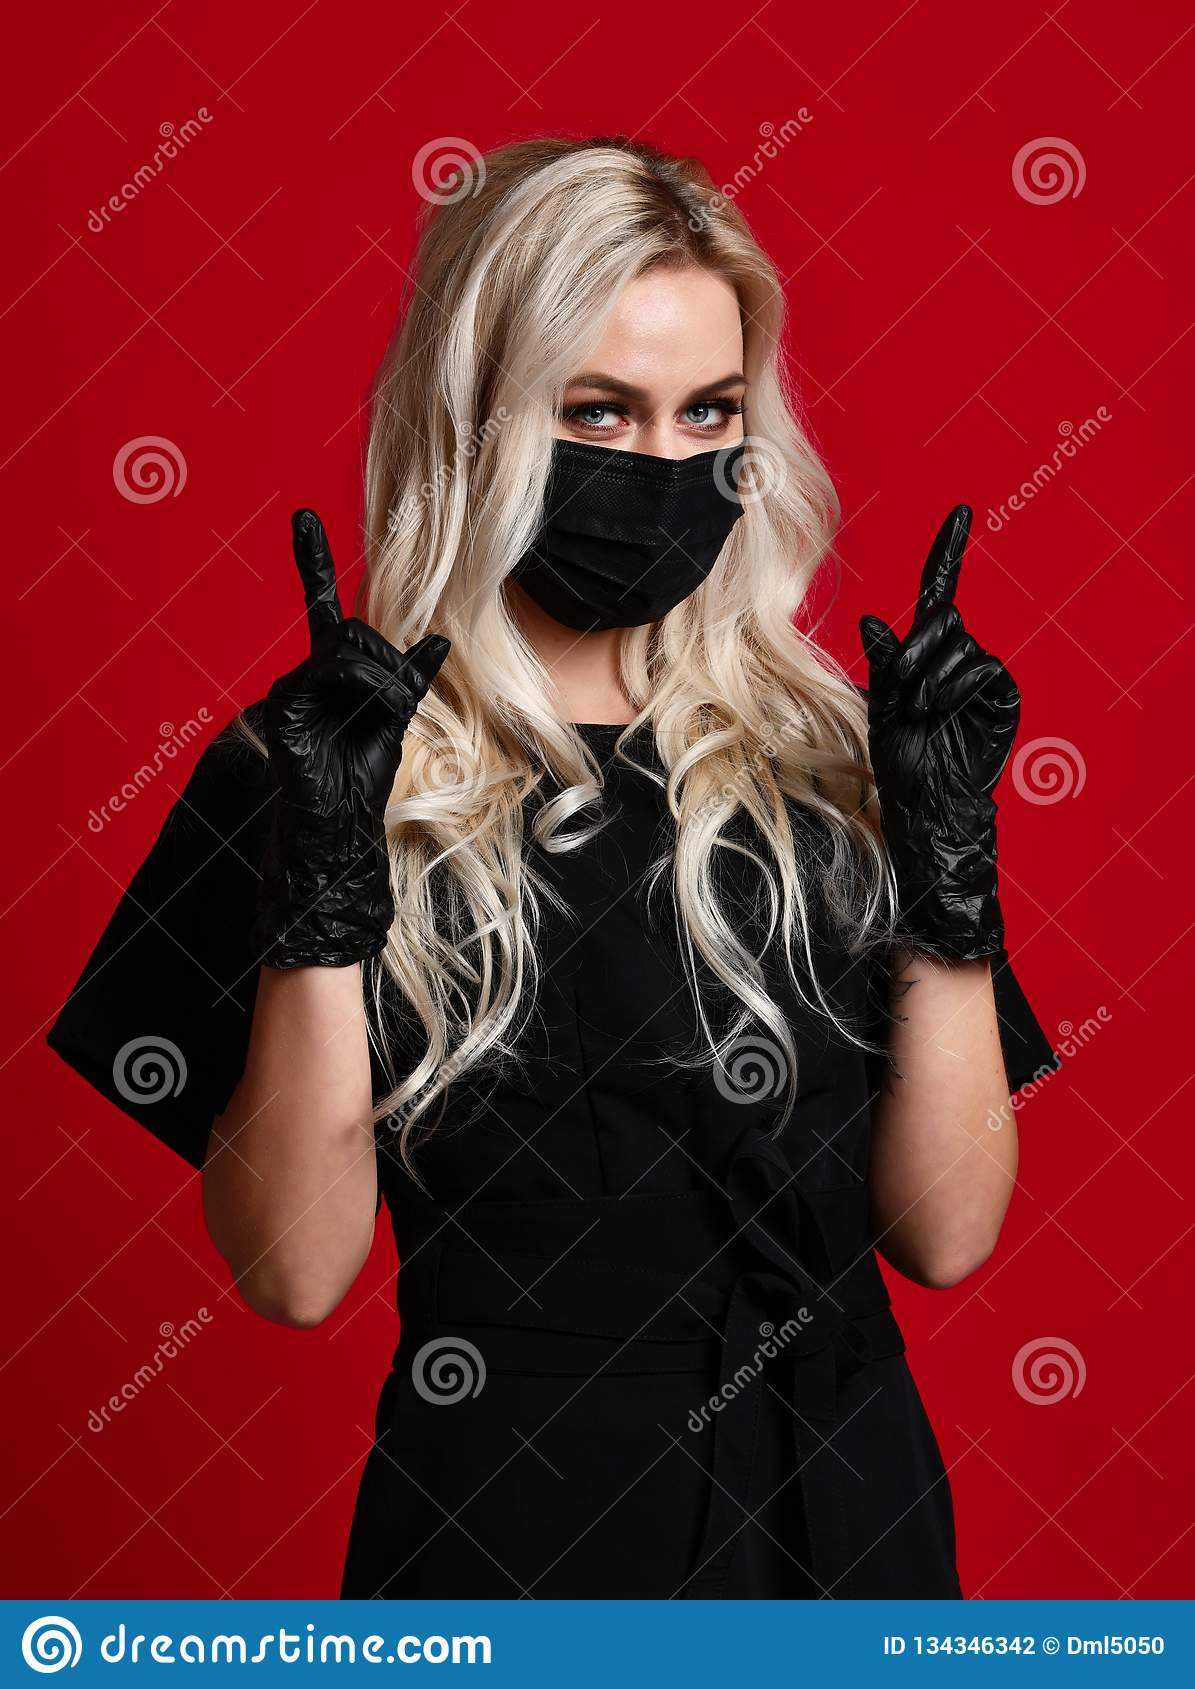mask: (503, 441, 749, 639)
